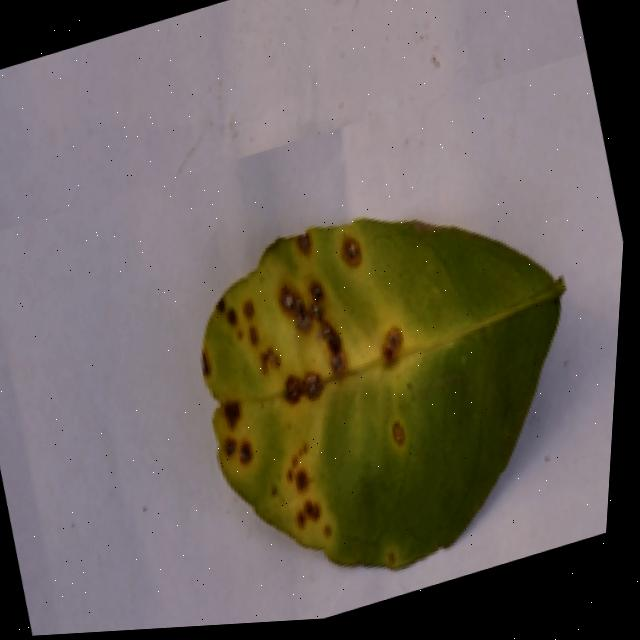canker: (202, 221, 562, 568), (283, 288, 344, 377), (288, 445, 330, 538), (244, 302, 280, 371), (380, 410, 420, 462), (288, 372, 326, 404), (384, 327, 401, 364), (227, 440, 252, 464), (345, 237, 363, 263), (229, 403, 241, 433)
